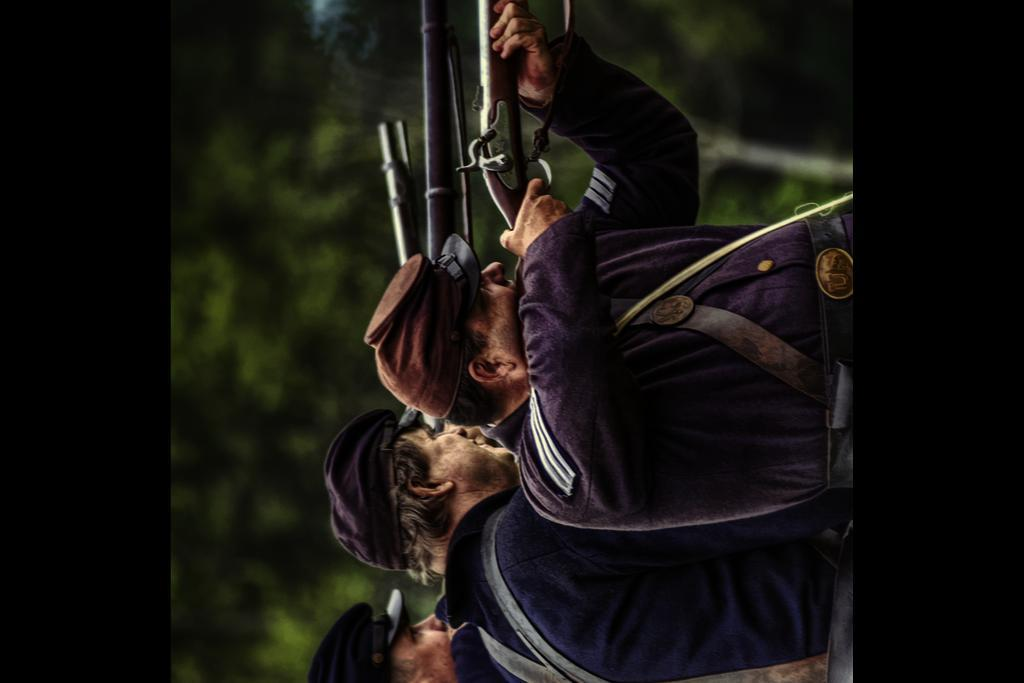gun: (464, 0, 599, 256), (407, 0, 478, 268)
